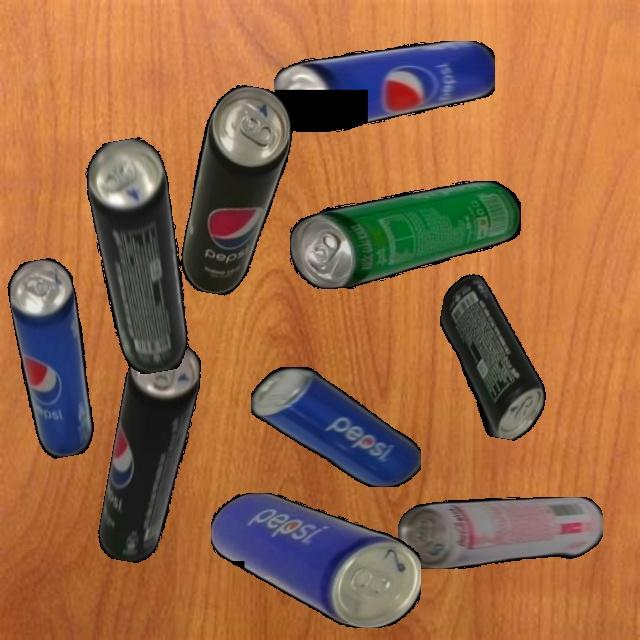debris: (80, 134, 200, 378), (210, 493, 421, 628), (176, 80, 299, 302), (95, 334, 206, 568), (290, 180, 521, 289), (422, 271, 564, 444), (250, 367, 421, 487), (4, 255, 103, 461), (274, 40, 495, 132), (398, 496, 603, 569)
